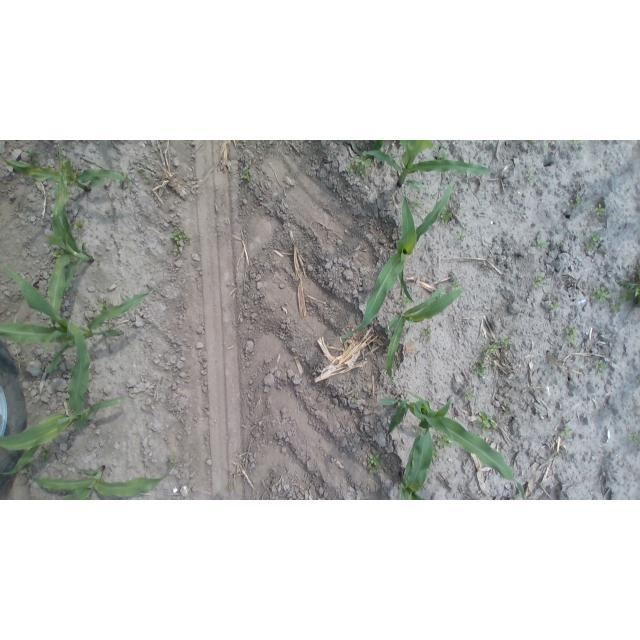Maize: (1, 318, 128, 483), (334, 180, 453, 334), (380, 389, 528, 500), (0, 270, 158, 371), (45, 159, 101, 335), (383, 279, 468, 383), (358, 141, 497, 192), (28, 458, 178, 500), (3, 151, 136, 196), (398, 409, 438, 499)
Weeds: (471, 340, 505, 378), (347, 153, 374, 179), (618, 277, 639, 304), (476, 411, 497, 434), (581, 232, 601, 252), (171, 228, 190, 249), (591, 286, 612, 303), (366, 453, 382, 475), (480, 343, 504, 357), (565, 325, 580, 347), (434, 431, 452, 449), (438, 206, 454, 224), (408, 196, 425, 212), (39, 446, 53, 464), (532, 275, 547, 290), (524, 168, 537, 183), (594, 360, 609, 373), (610, 301, 623, 315), (560, 426, 574, 439), (535, 237, 550, 249), (51, 246, 65, 258), (420, 326, 432, 340), (569, 196, 584, 207), (594, 204, 606, 217), (464, 388, 476, 401), (501, 335, 512, 349), (501, 406, 513, 418), (430, 448, 442, 460), (98, 300, 110, 312), (74, 218, 85, 231), (401, 295, 412, 308), (447, 279, 461, 289), (568, 140, 583, 149), (135, 164, 146, 176), (550, 299, 560, 311), (629, 430, 639, 442), (242, 169, 252, 181), (458, 231, 467, 243), (169, 455, 177, 468), (556, 239, 565, 250), (351, 394, 360, 404), (227, 482, 235, 493), (526, 140, 537, 146)
